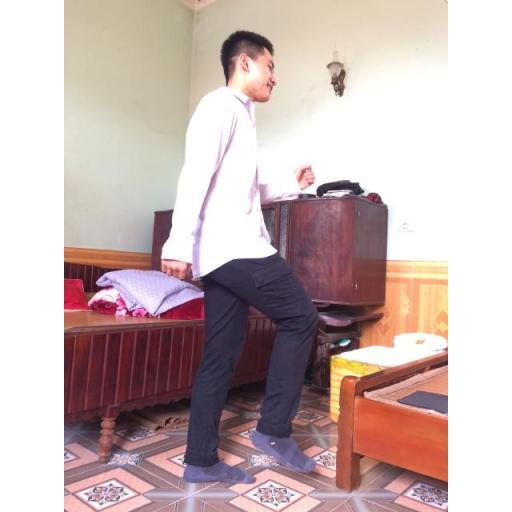Running: (162, 23, 334, 490)
